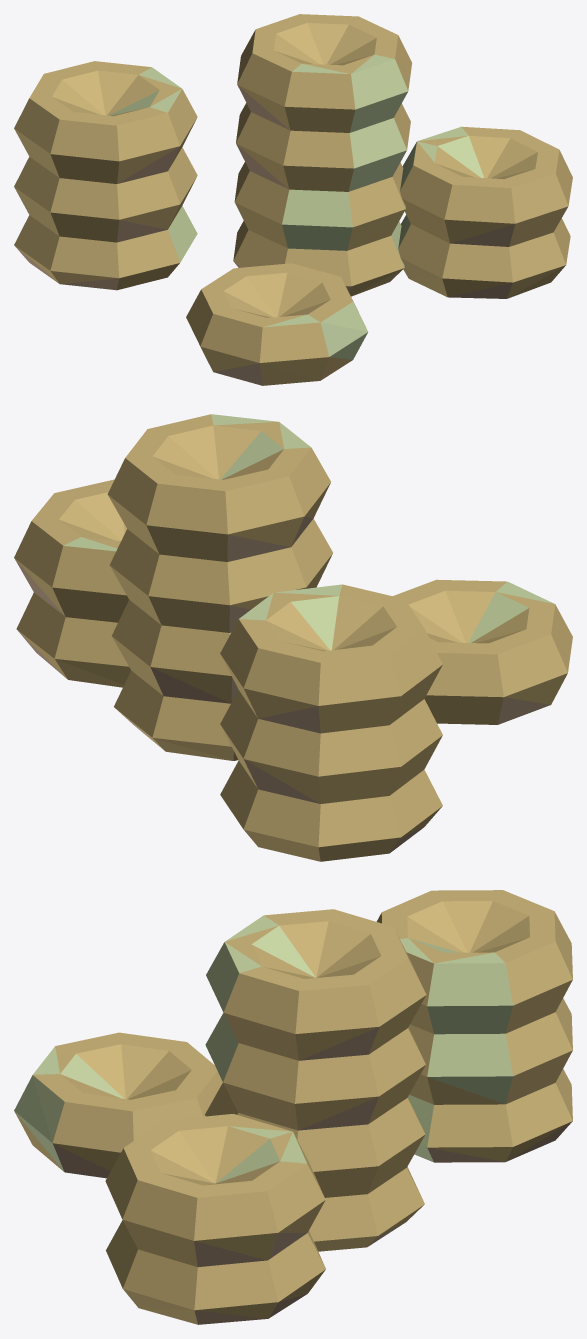
3 renders of one model, top to bottom at view 1: azimuth 30°, elevation 25°; view 2: azimuth 150°, elevation 25°; view 3: azimuth 270°, elevation 25°, orthographic. The views are drawn at different scales.
Parts seen in each view (by area): view 1: model; view 2: model; view 3: model.
Part boxes in pixels (<box>): model: <box>14,14,572,385</box>; model: <box>14,414,572,861</box>; model: <box>14,890,572,1324</box>.
Bounding box in the file's own units: 0.6714 × 0.3348 × 0.6274.
